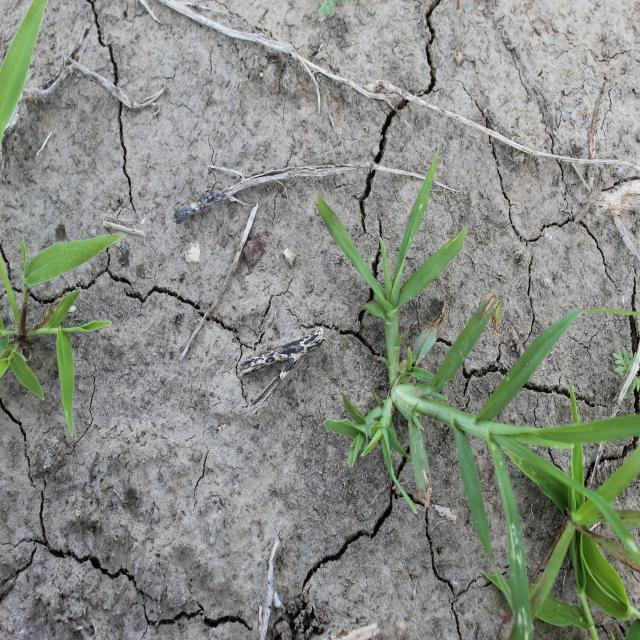Goosegrass: (316, 144, 639, 638)
Ragweed: (610, 348, 638, 402)
